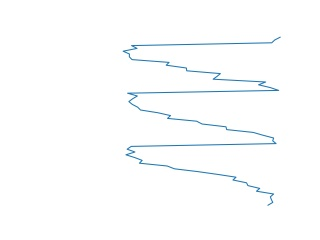distributaryMouthBar: (120, 29, 285, 205)
